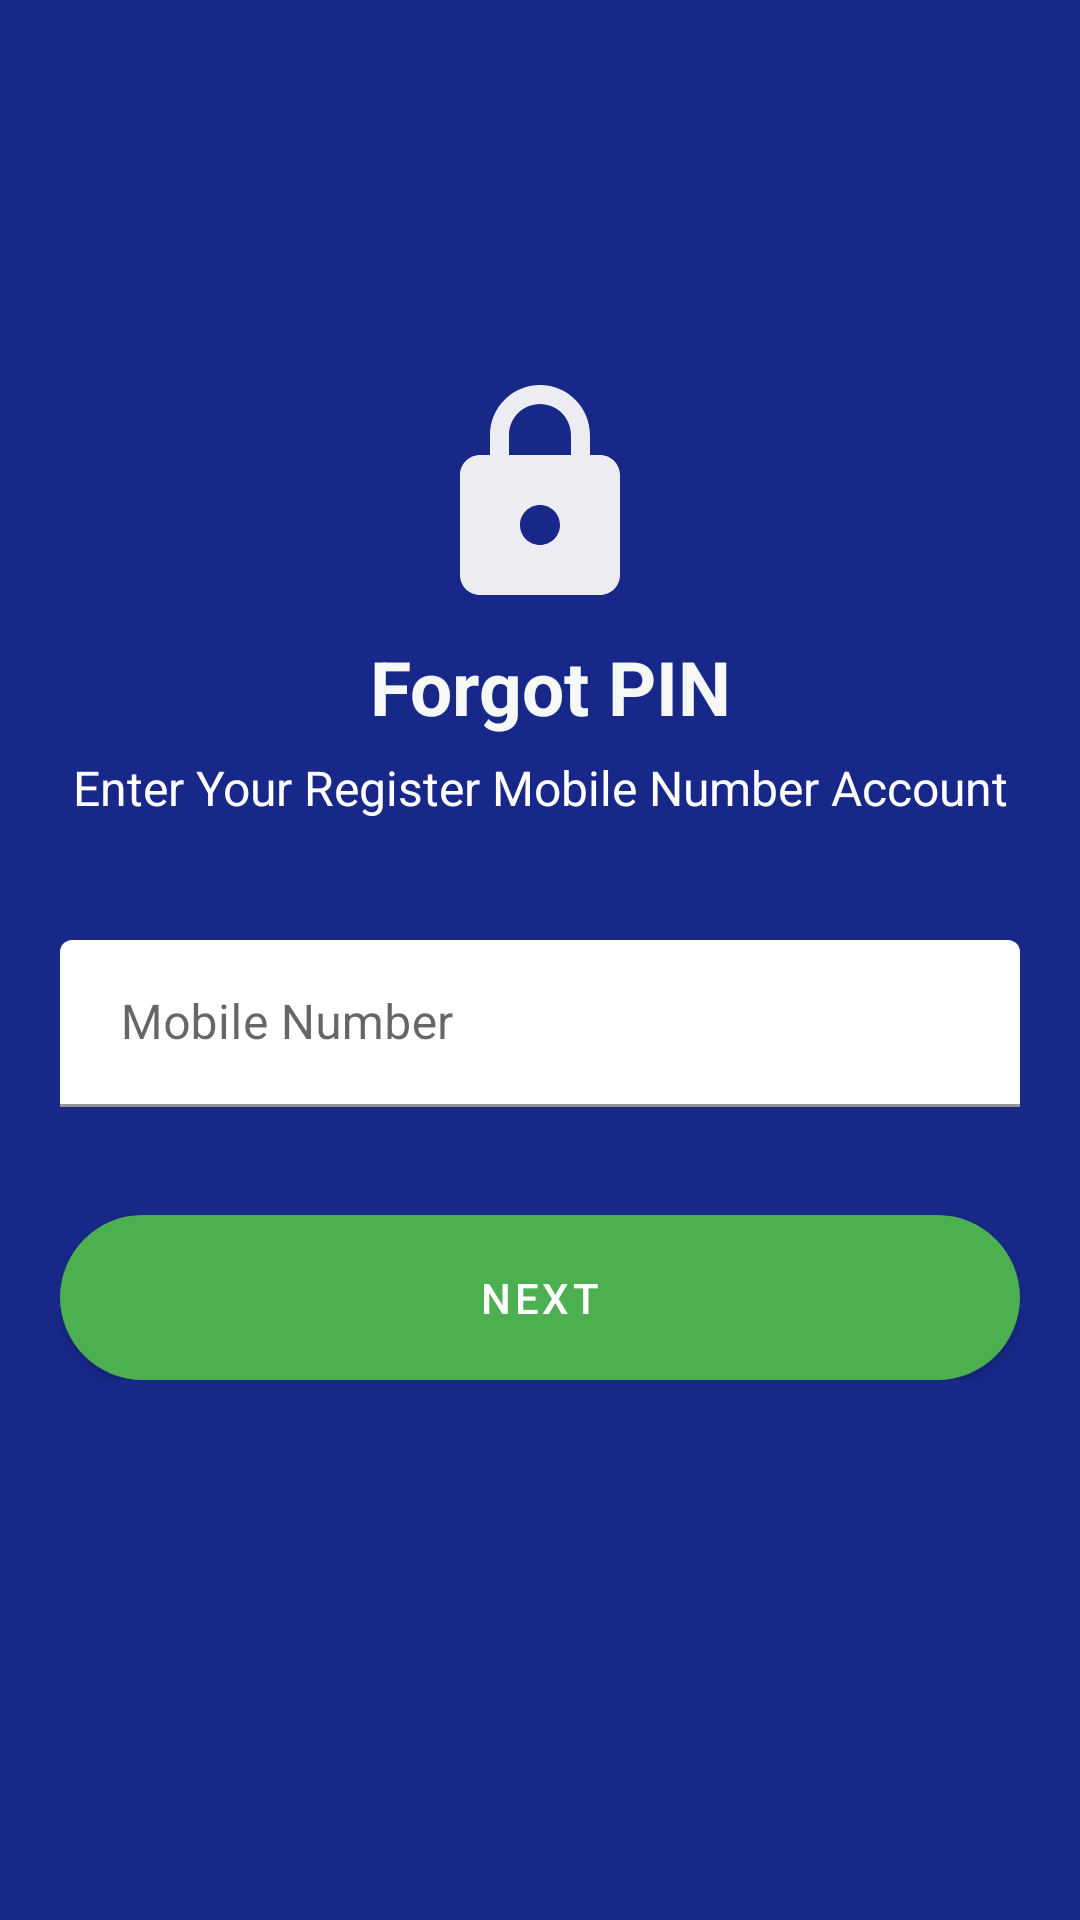

Locate icon controls on the screen. Image size 1080×1920, boxes as (x1, y1, x2, y2).
forget password: (460, 385, 620, 595)
